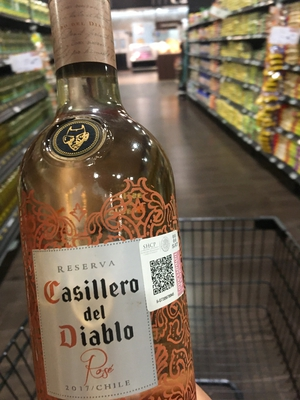casillero del diablo rose: (18, 3, 213, 396)
